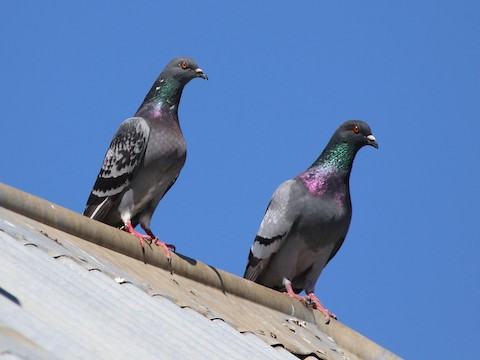pigeon: (241, 113, 385, 324), (78, 54, 212, 264)
